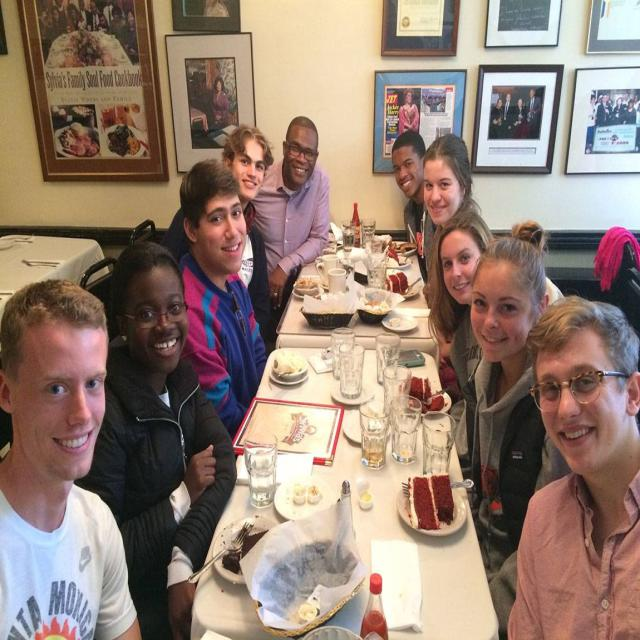body: (73, 234, 240, 640), (1, 276, 145, 640), (505, 292, 640, 640), (21, 1, 243, 170), (364, 41, 640, 176), (158, 122, 279, 359), (174, 155, 270, 446), (428, 215, 566, 350), (248, 115, 331, 323), (421, 132, 482, 394), (426, 205, 496, 400), (391, 130, 425, 259)
